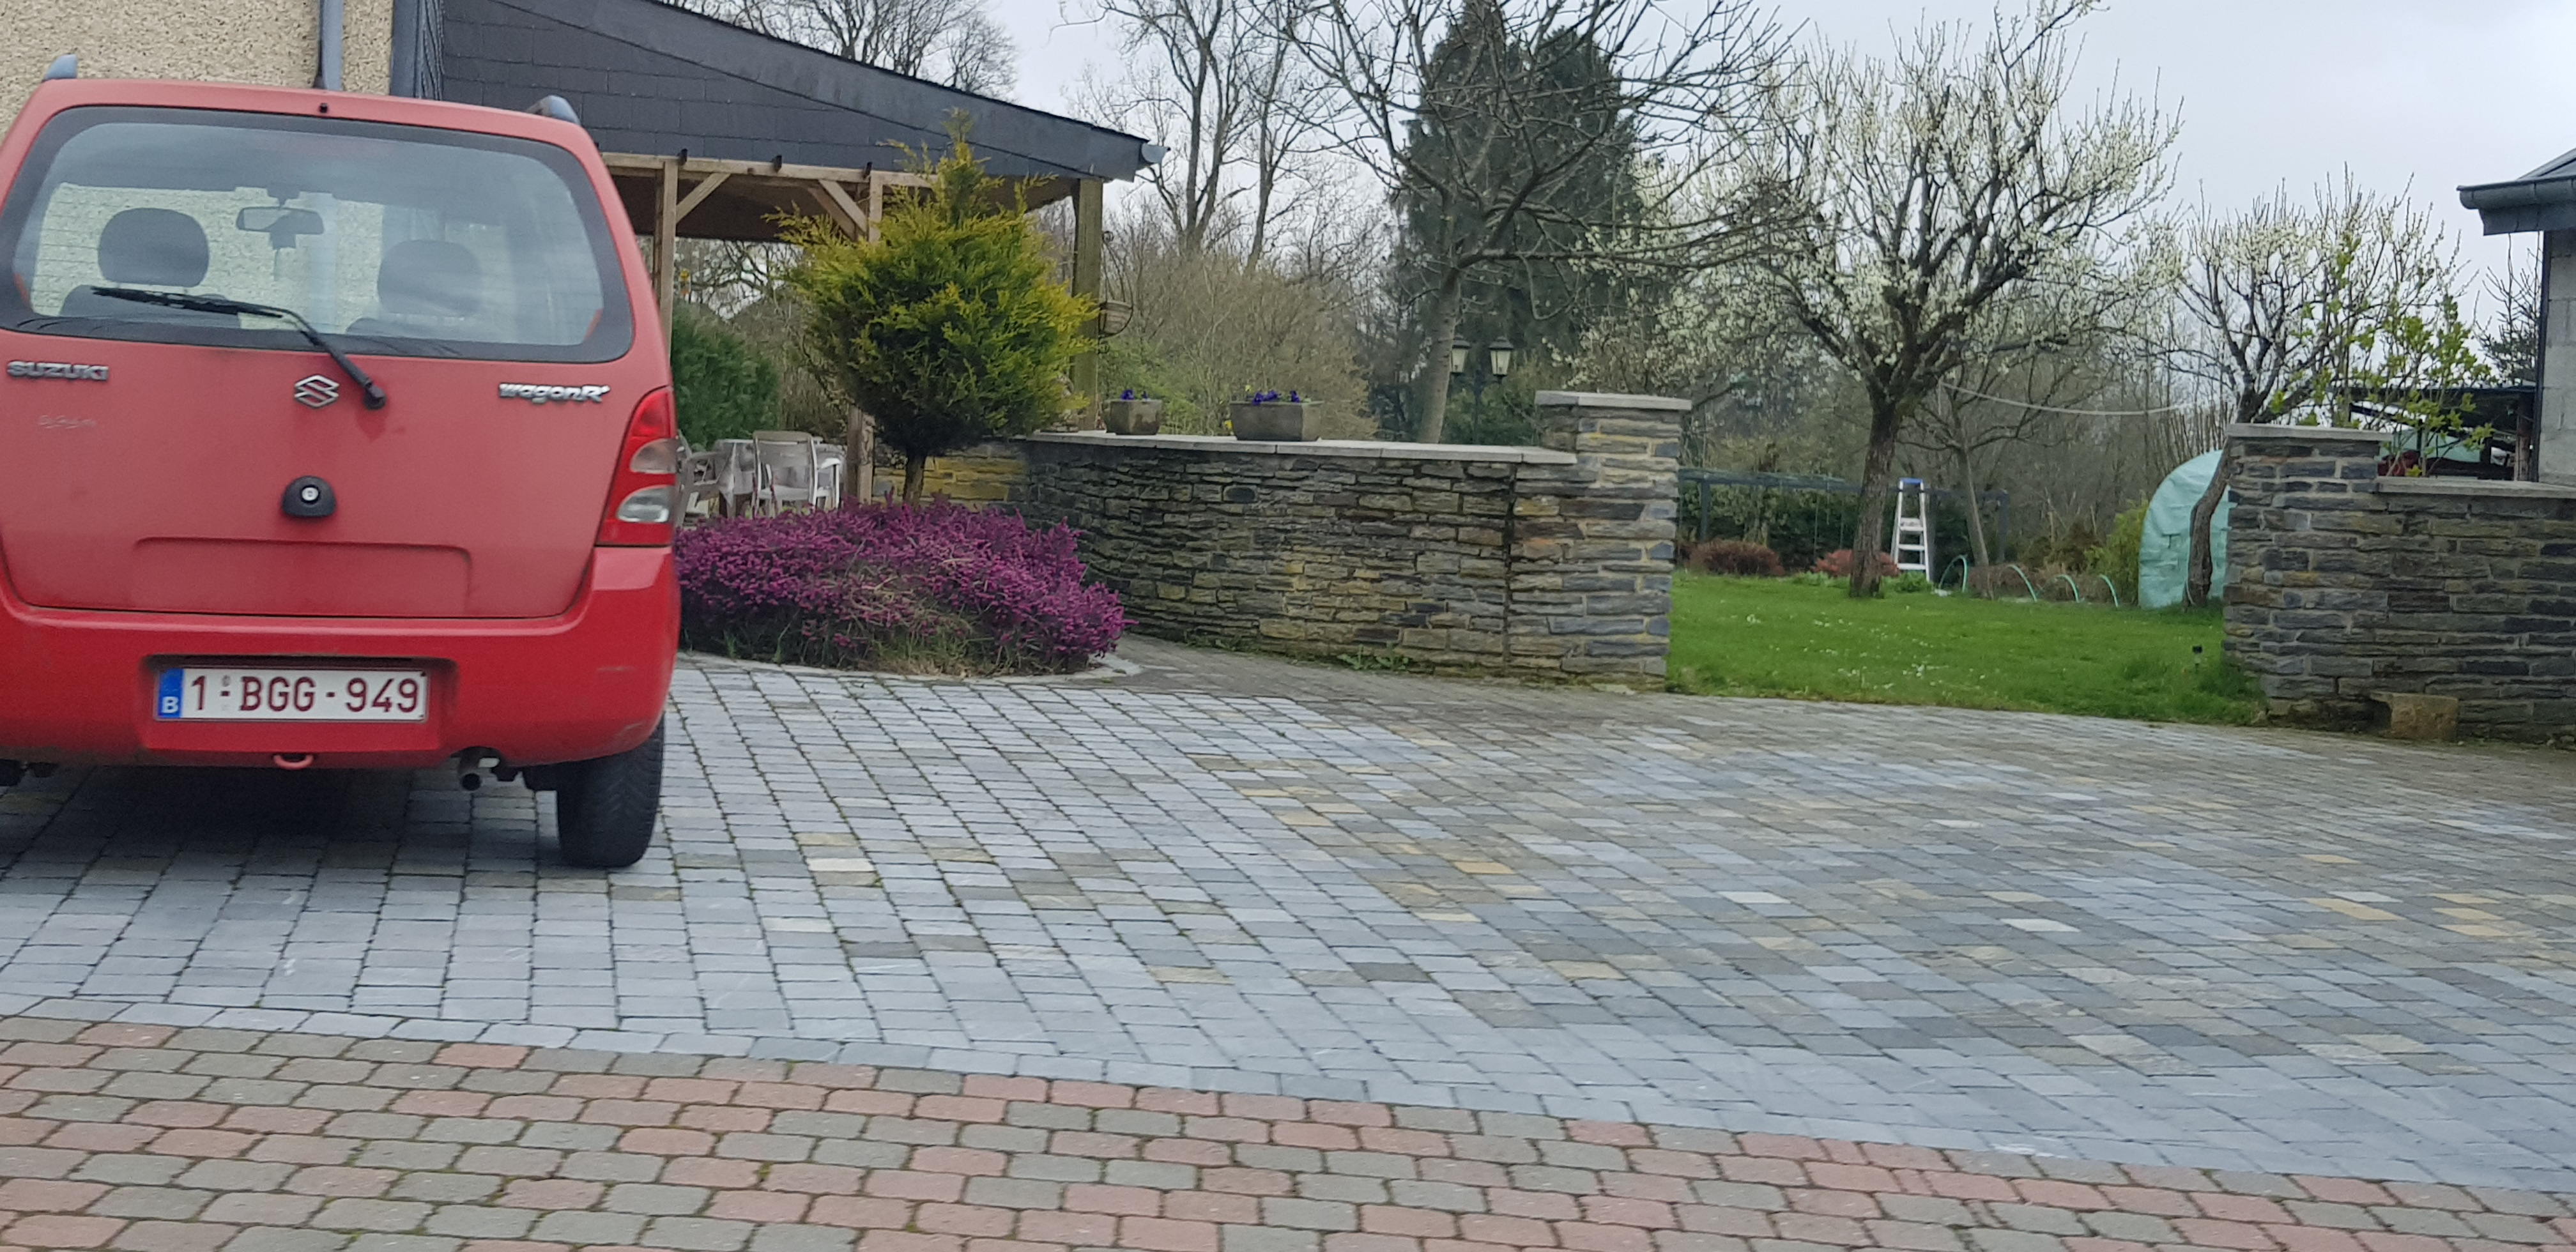licenceplate: (153, 662, 430, 728)
